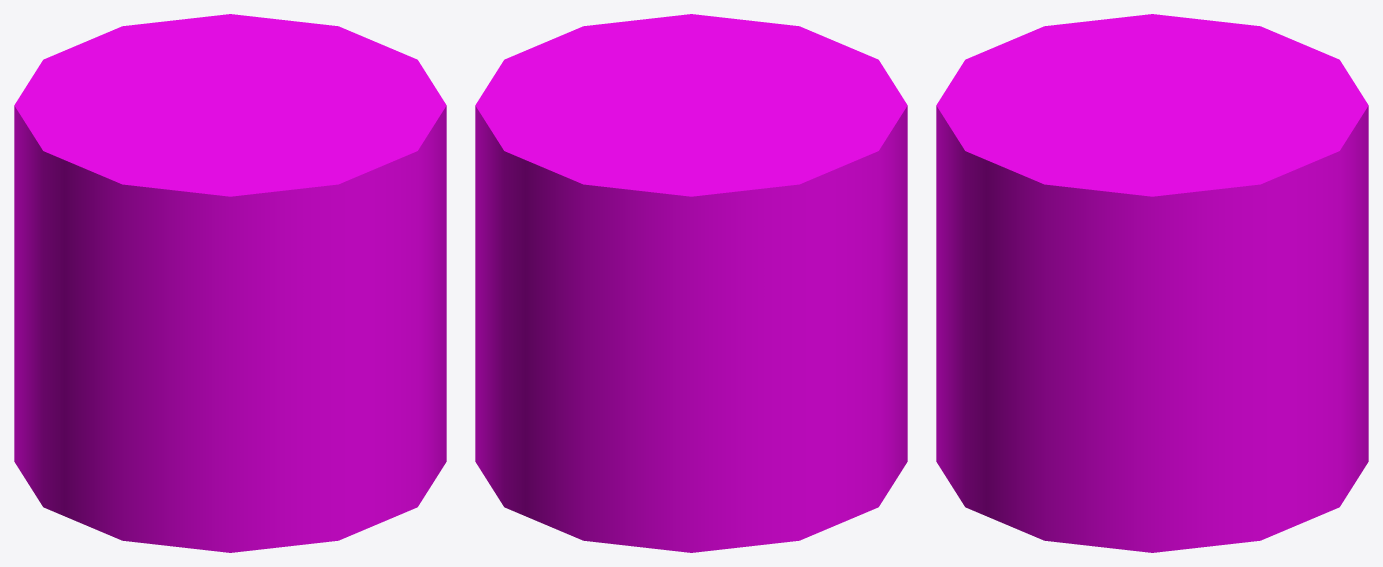
File: shrub-laurel.collision.glb
3 views of the same model, side by side, from view 1: azimuth 30°, elevation 25°; view 2: azimuth 150°, elevation 25°; view 3: azimuth 270°, elevation 25° (orthographic).
Parts seen in each view (by area): view 1: shrub_laurel_collision_collision; view 2: shrub_laurel_collision_collision; view 3: shrub_laurel_collision_collision.
Part boxes in pixels (x1,y1,x2,y2): shrub_laurel_collision_collision: (14, 14, 446, 552); shrub_laurel_collision_collision: (475, 14, 907, 552); shrub_laurel_collision_collision: (936, 14, 1368, 552).
Bounding box in the file's own units: 1.1 × 1 × 1.1.
